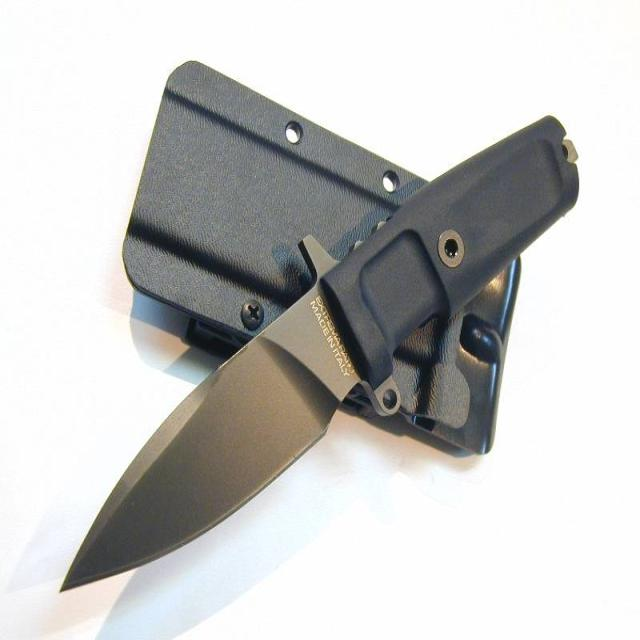knife: (44, 113, 589, 611)
